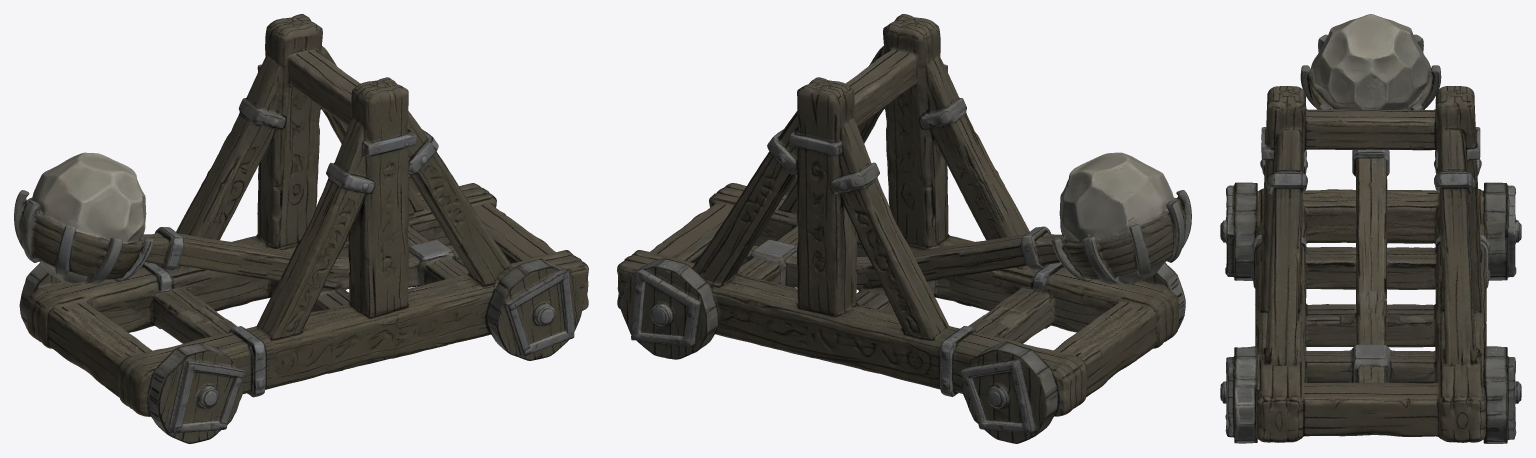
Rendered from catapult.glb.
The picture shows the model from 3 angles, left to right: view 1: azimuth 30°, elevation 25°; view 2: azimuth 150°, elevation 25°; view 3: azimuth 270°, elevation 25°; orthographic projection.
Size of the model in its own units: 1.9 by 1.02 by 0.9882.
1 material, 1 textured.
